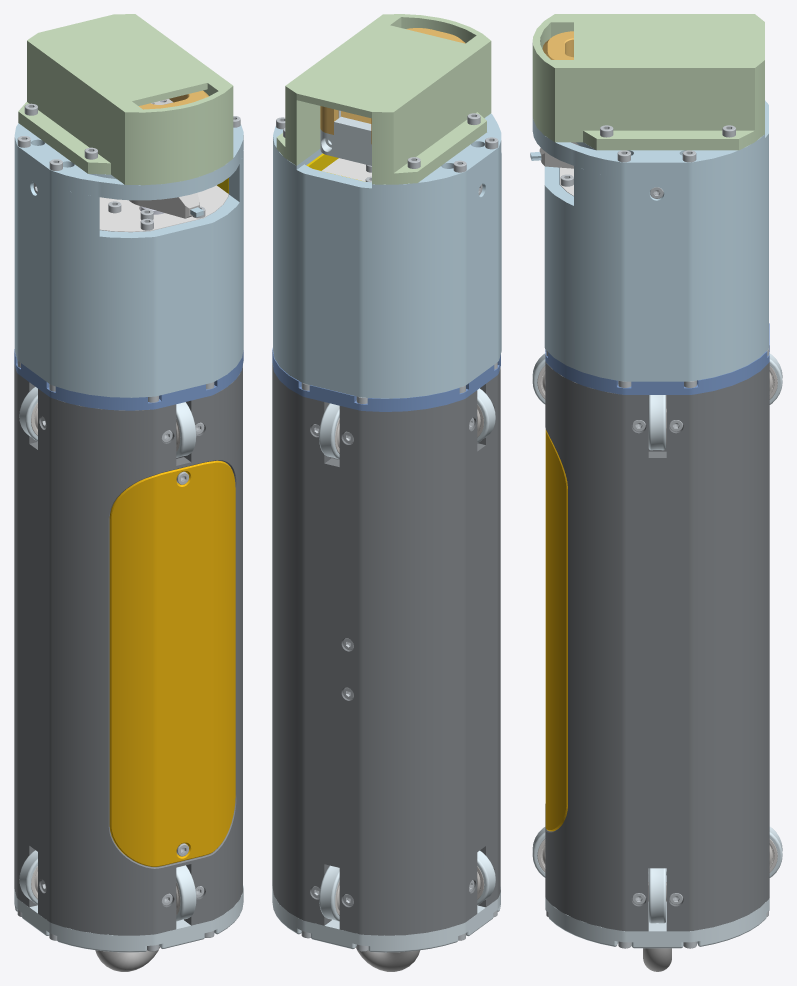
The model's file is SampleSubwayExtremeCompress.glb.
3 views of the same model, side by side, from view 1: azimuth 30°, elevation 25°; view 2: azimuth 150°, elevation 25°; view 3: azimuth 270°, elevation 25° (orthographic). The views are drawn at different scales.
Visible parts, largest first — view 1: Frame, Panel Cover, Part 14, Part 18, Part 21, Molicel 21700 P45B (×3), Hex socket head cap screw M3x0.50 x 10, Nickel Strip; view 2: Frame, Part 14, Part 18, Part 21, Molicel 21700 P45B (×2), Hex socket head cap screw M3x0.50 x 10, ContainerBody, Nickel Strip; view 3: Frame, Part 14, Part 18, Panel Cover, Part 21, Molicel 21700 P45B, Hex socket head cap screw M3x0.50 x 10, ContainerBody, Nickel Strip, 608 Bearing.
Part boxes in pixels (box(x1,y1,x2,y2)): Frame: box(14, 364, 242, 935); Panel Cover: box(109, 460, 235, 866); Part 14: box(14, 123, 243, 397); Part 18: box(18, 14, 233, 185); Part 21: box(14, 387, 243, 952); Molicel 21700 P45B (×3): box(14, 185, 243, 410); Hex socket head cap screw M3x0.50 x 10: box(17, 103, 240, 951); Nickel Strip: box(95, 946, 159, 971); Frame: box(272, 363, 500, 935); Part 14: box(273, 113, 501, 398); Part 18: box(276, 14, 491, 184); Part 21: box(272, 110, 500, 952); Molicel 21700 P45B (×2): box(272, 158, 500, 411); Hex socket head cap screw M3x0.50 x 10: box(276, 113, 498, 951); ContainerBody: box(320, 28, 465, 144); Nickel Strip: box(356, 947, 419, 971); Frame: box(545, 361, 769, 931); Part 14: box(530, 100, 768, 381); Part 18: box(532, 14, 764, 150); Panel Cover: box(545, 429, 567, 831); Part 21: box(532, 353, 782, 948); Molicel 21700 P45B: box(545, 323, 769, 394); Hex socket head cap screw M3x0.50 x 10: box(546, 125, 768, 948); ContainerBody: box(542, 31, 573, 59); Nickel Strip: box(643, 948, 671, 971); 608 Bearing: box(537, 366, 777, 872).
Size of the model in its own units: 0.1015 by 0.415 by 0.1024.
